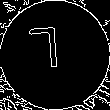L_S: (38, 29, 72, 81)
